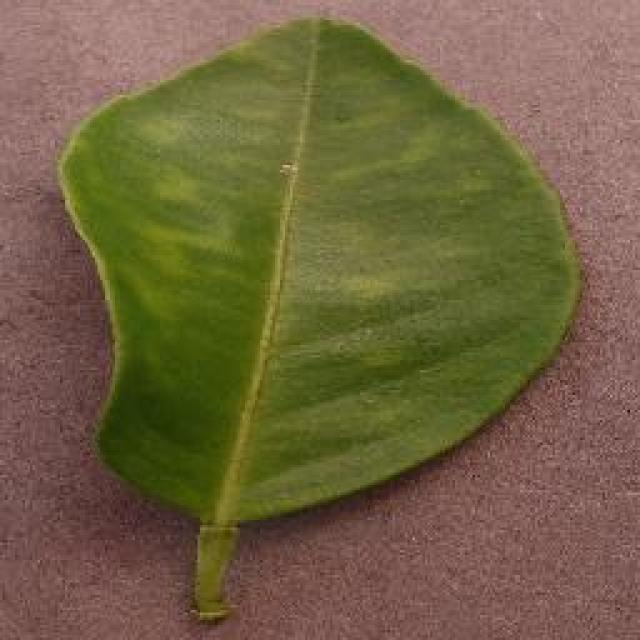Orange_Haunglongbing_Citrus_greening: (118, 78, 498, 486)
